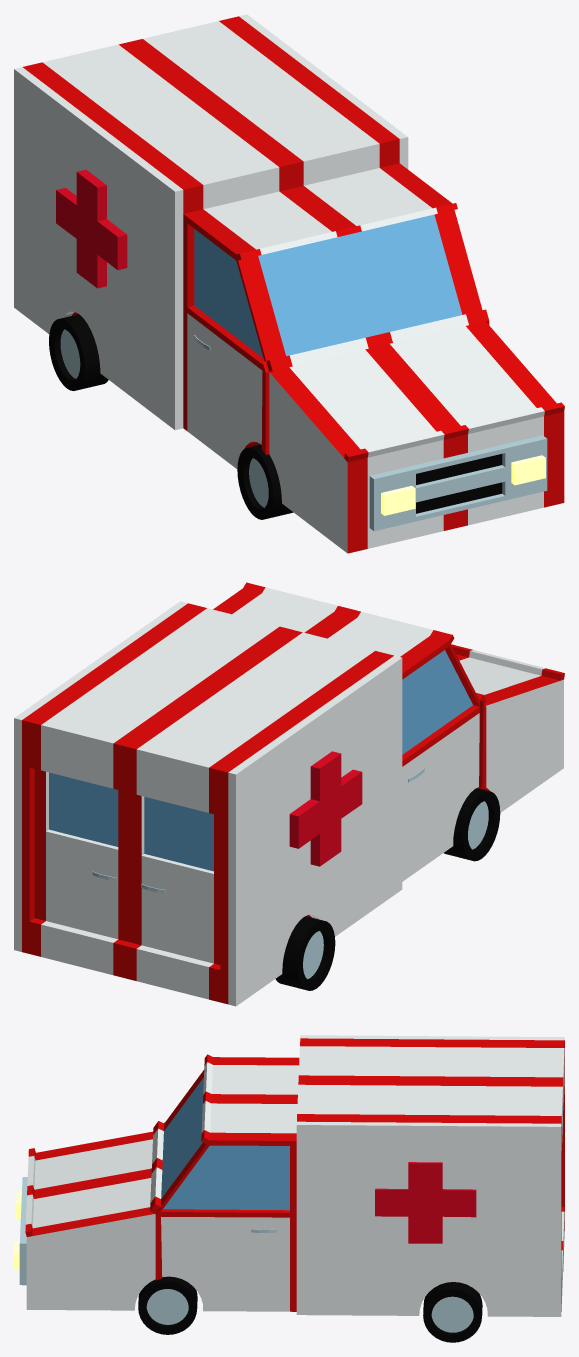
Rendered from cars.glb.
3 views of the same model, one above another, from view 1: azimuth 30°, elevation 25°; view 2: azimuth 150°, elevation 25°; view 3: azimuth 270°, elevation 25° (orthographic). The views are drawn at different scales.
Parts seen in each view (by area): view 1: Plane.100, Plane.003, Plane.004; view 2: Plane.100, Plane.003, Plane.004; view 3: Plane.100, Plane.003, Plane.004.
Part boxes in pixels (left/top/right/bottom): Plane.100: left=14, top=14, right=564, bottom=553; Plane.003: left=49, top=314, right=108, bottom=390; Plane.004: left=237, top=444, right=293, bottom=519; Plane.100: left=14, top=582, right=564, bottom=1006; Plane.003: left=275, top=916, right=335, bottom=990; Plane.004: left=444, top=788, right=500, bottom=861; Plane.100: left=14, top=1035, right=564, bottom=1316; Plane.003: left=423, top=1282, right=482, bottom=1342; Plane.004: left=138, top=1276, right=197, bottom=1334.
Bounding box in the file's own units: 2.31 × 2.29 × 5.4.
